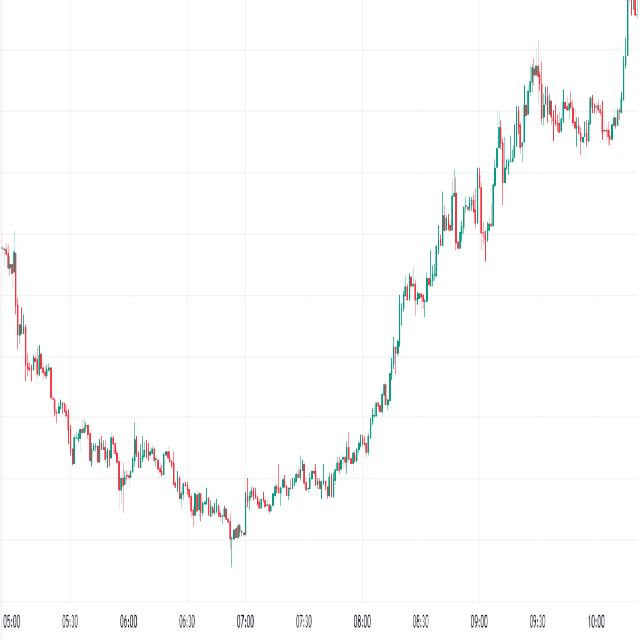Rounding-Bottom: (13, 248, 413, 553)
